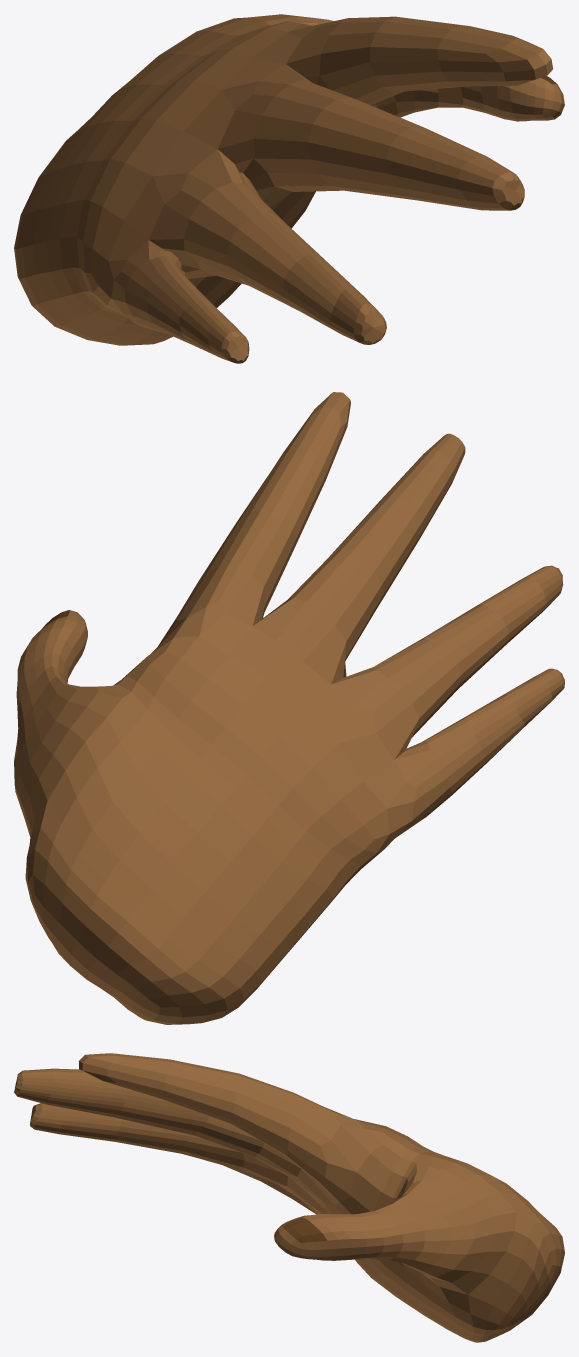
Rendered from mano (1).fbx.
The picture shows the model from 3 angles, top to bottom: view 1: azimuth 30°, elevation 25°; view 2: azimuth 150°, elevation 25°; view 3: azimuth 270°, elevation 25°; orthographic projection. The views are drawn at different scales.
Parts seen in each view (by area): view 1: Cube.001; view 2: Cube.001; view 3: Cube.001.
Boxes of the visible parts, left/top/right/bottom form: Cube.001: left=14, top=14, right=564, bottom=363; Cube.001: left=14, top=392, right=564, bottom=1024; Cube.001: left=14, top=1053, right=564, bottom=1342.
Bounding box in the file's own units: 3.81 × 3.73 × 5.93.
